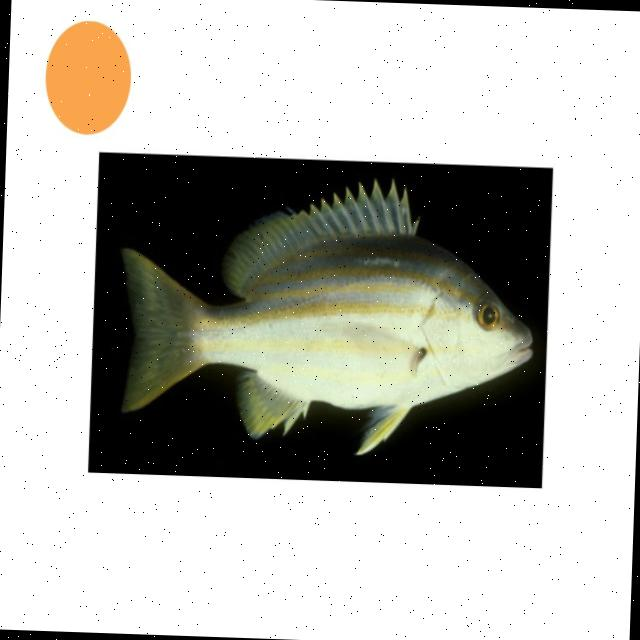ikan: (112, 167, 540, 462)
